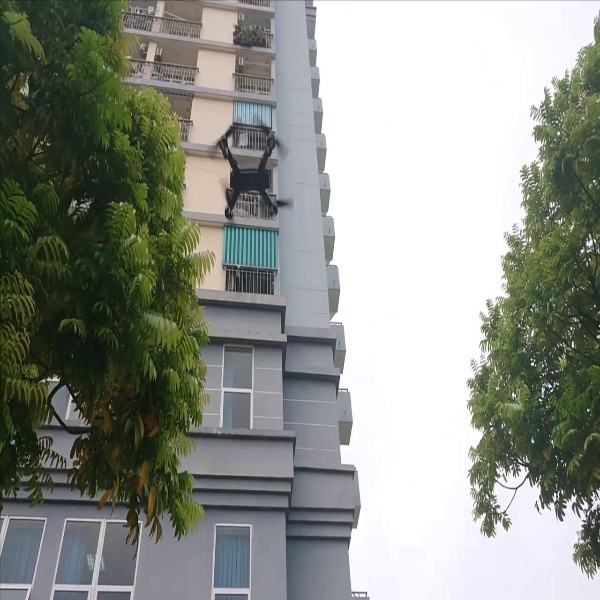drone: (212, 122, 290, 226)
